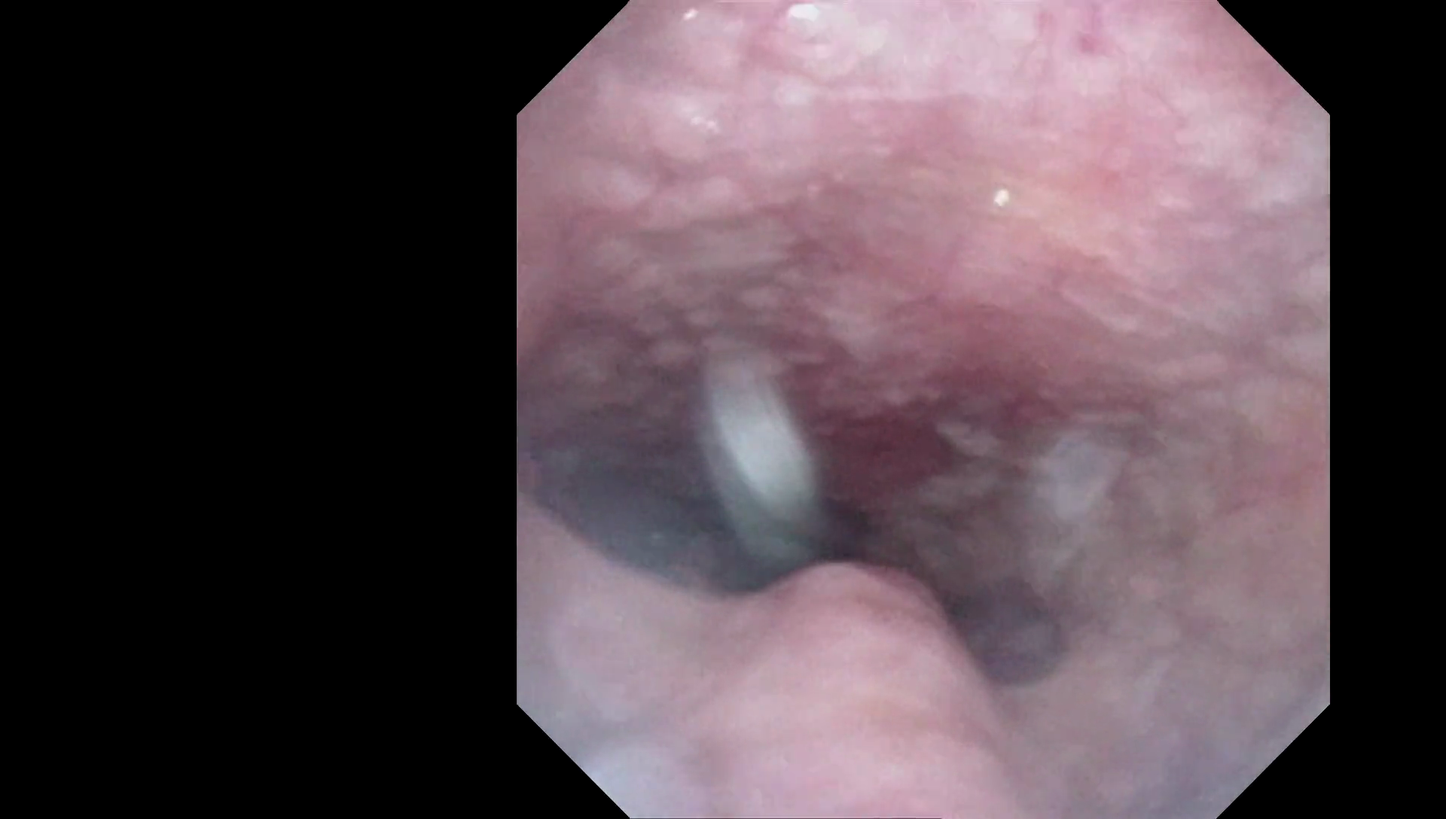next: (618, 439, 941, 641)
